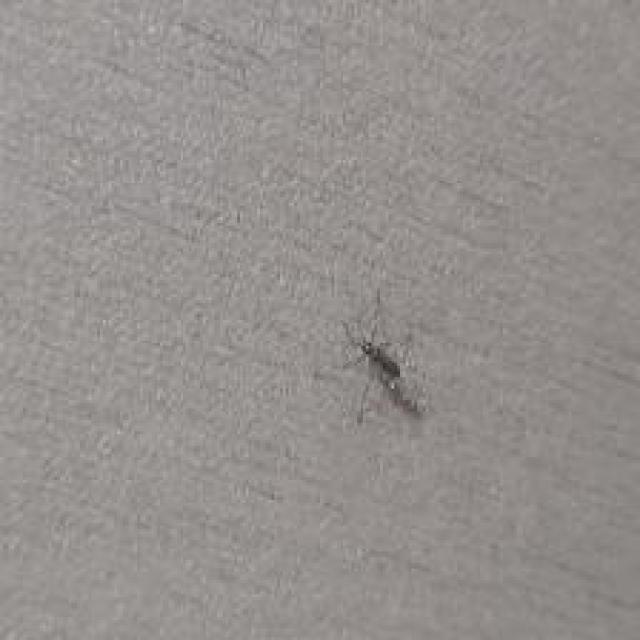Aedes albopictus: (334, 288, 426, 426)
